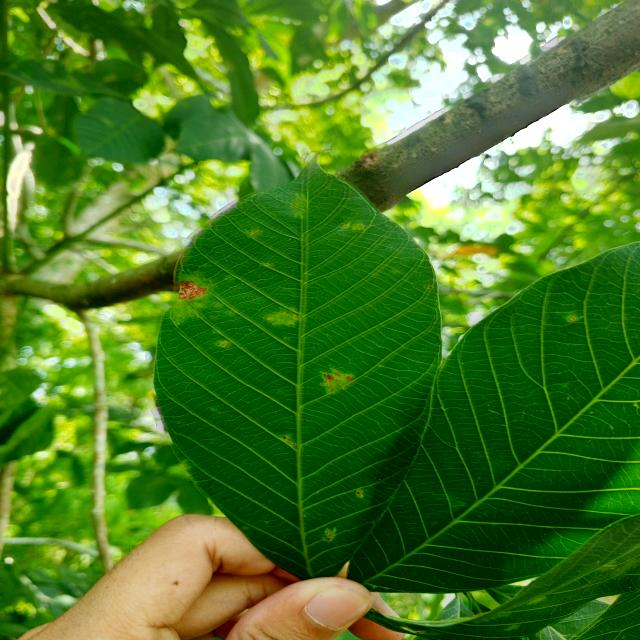Leaf-Blight: (178, 282, 205, 300)
